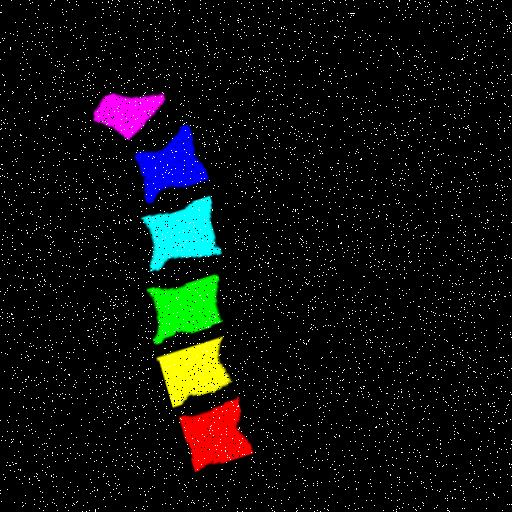L1: (179, 398, 253, 470)
L2: (158, 337, 231, 406)
L3: (146, 274, 219, 343)
L4: (141, 195, 220, 269)
L5: (133, 125, 207, 200)
S1: (92, 92, 164, 141)
